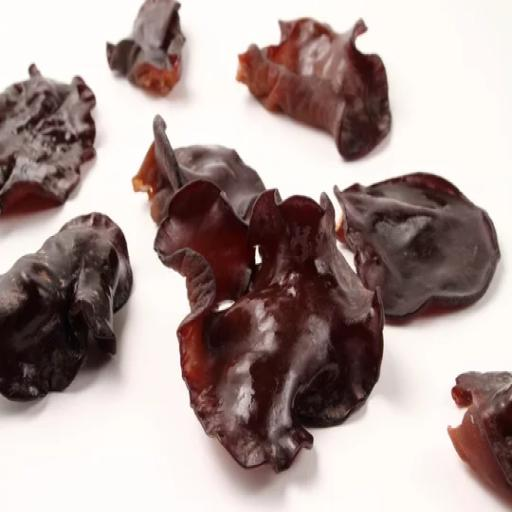Wood Ear Mushroom: (131, 123, 394, 480), (0, 205, 134, 438), (230, 4, 412, 163), (330, 156, 498, 323), (0, 57, 108, 224), (99, 0, 204, 99), (443, 366, 512, 511)
